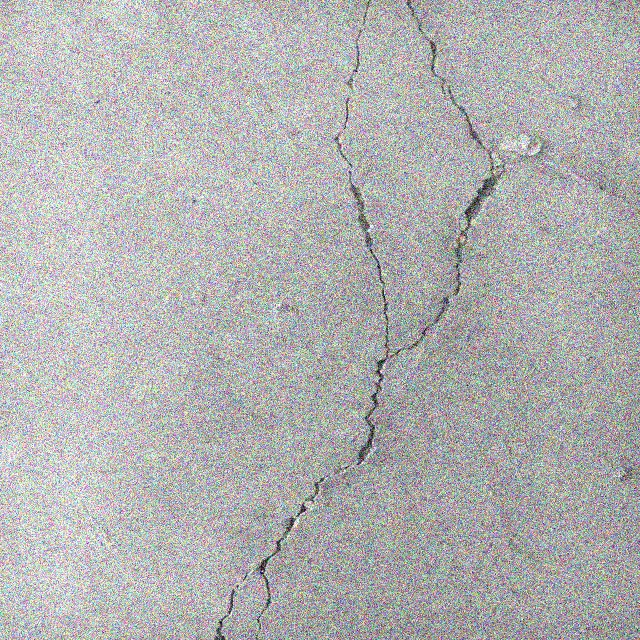SurfaceCrack: (172, 1, 537, 640)
